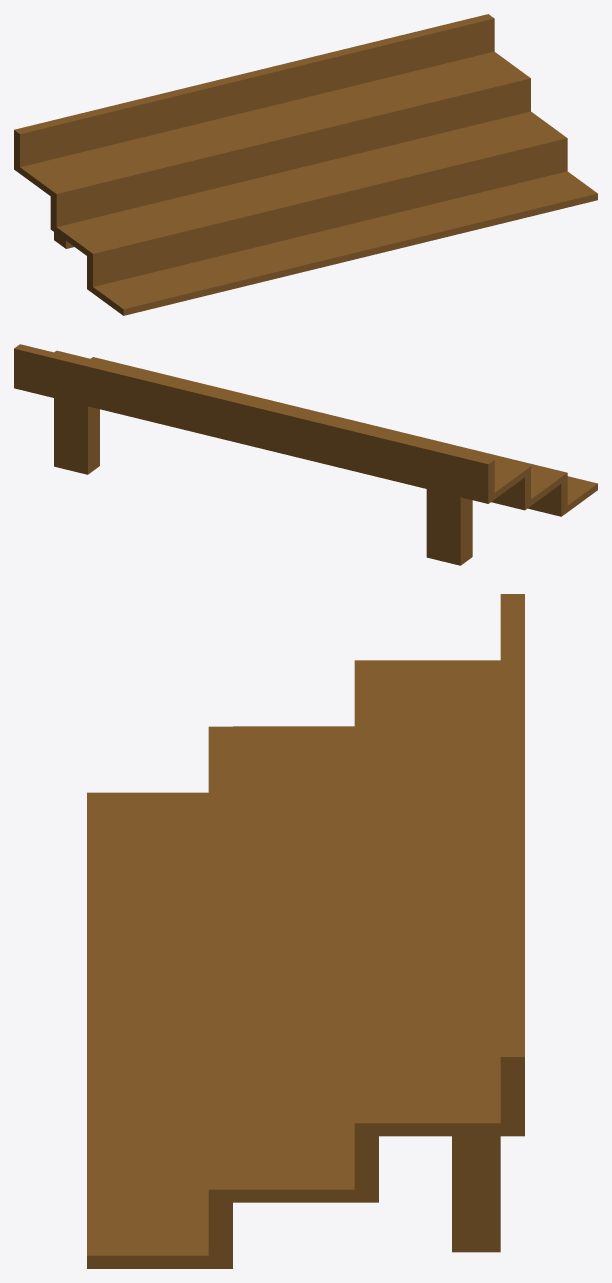
File: benchpong.glb
The picture shows the model from 3 angles, top to bottom: view 1: azimuth 30°, elevation 25°; view 2: azimuth 150°, elevation 25°; view 3: azimuth 270°, elevation 25°; orthographic projection. The views are drawn at different scales.
Visible parts, largest first — view 1: Cube; view 2: Cube; view 3: Cube.
Boxes of the visible parts, x1,y1,x2,y2 form: Cube: [14, 14, 597, 315]; Cube: [14, 344, 597, 565]; Cube: [87, 594, 524, 1268].
Bounding box in the file's own units: 30 × 6.9 × 12.
